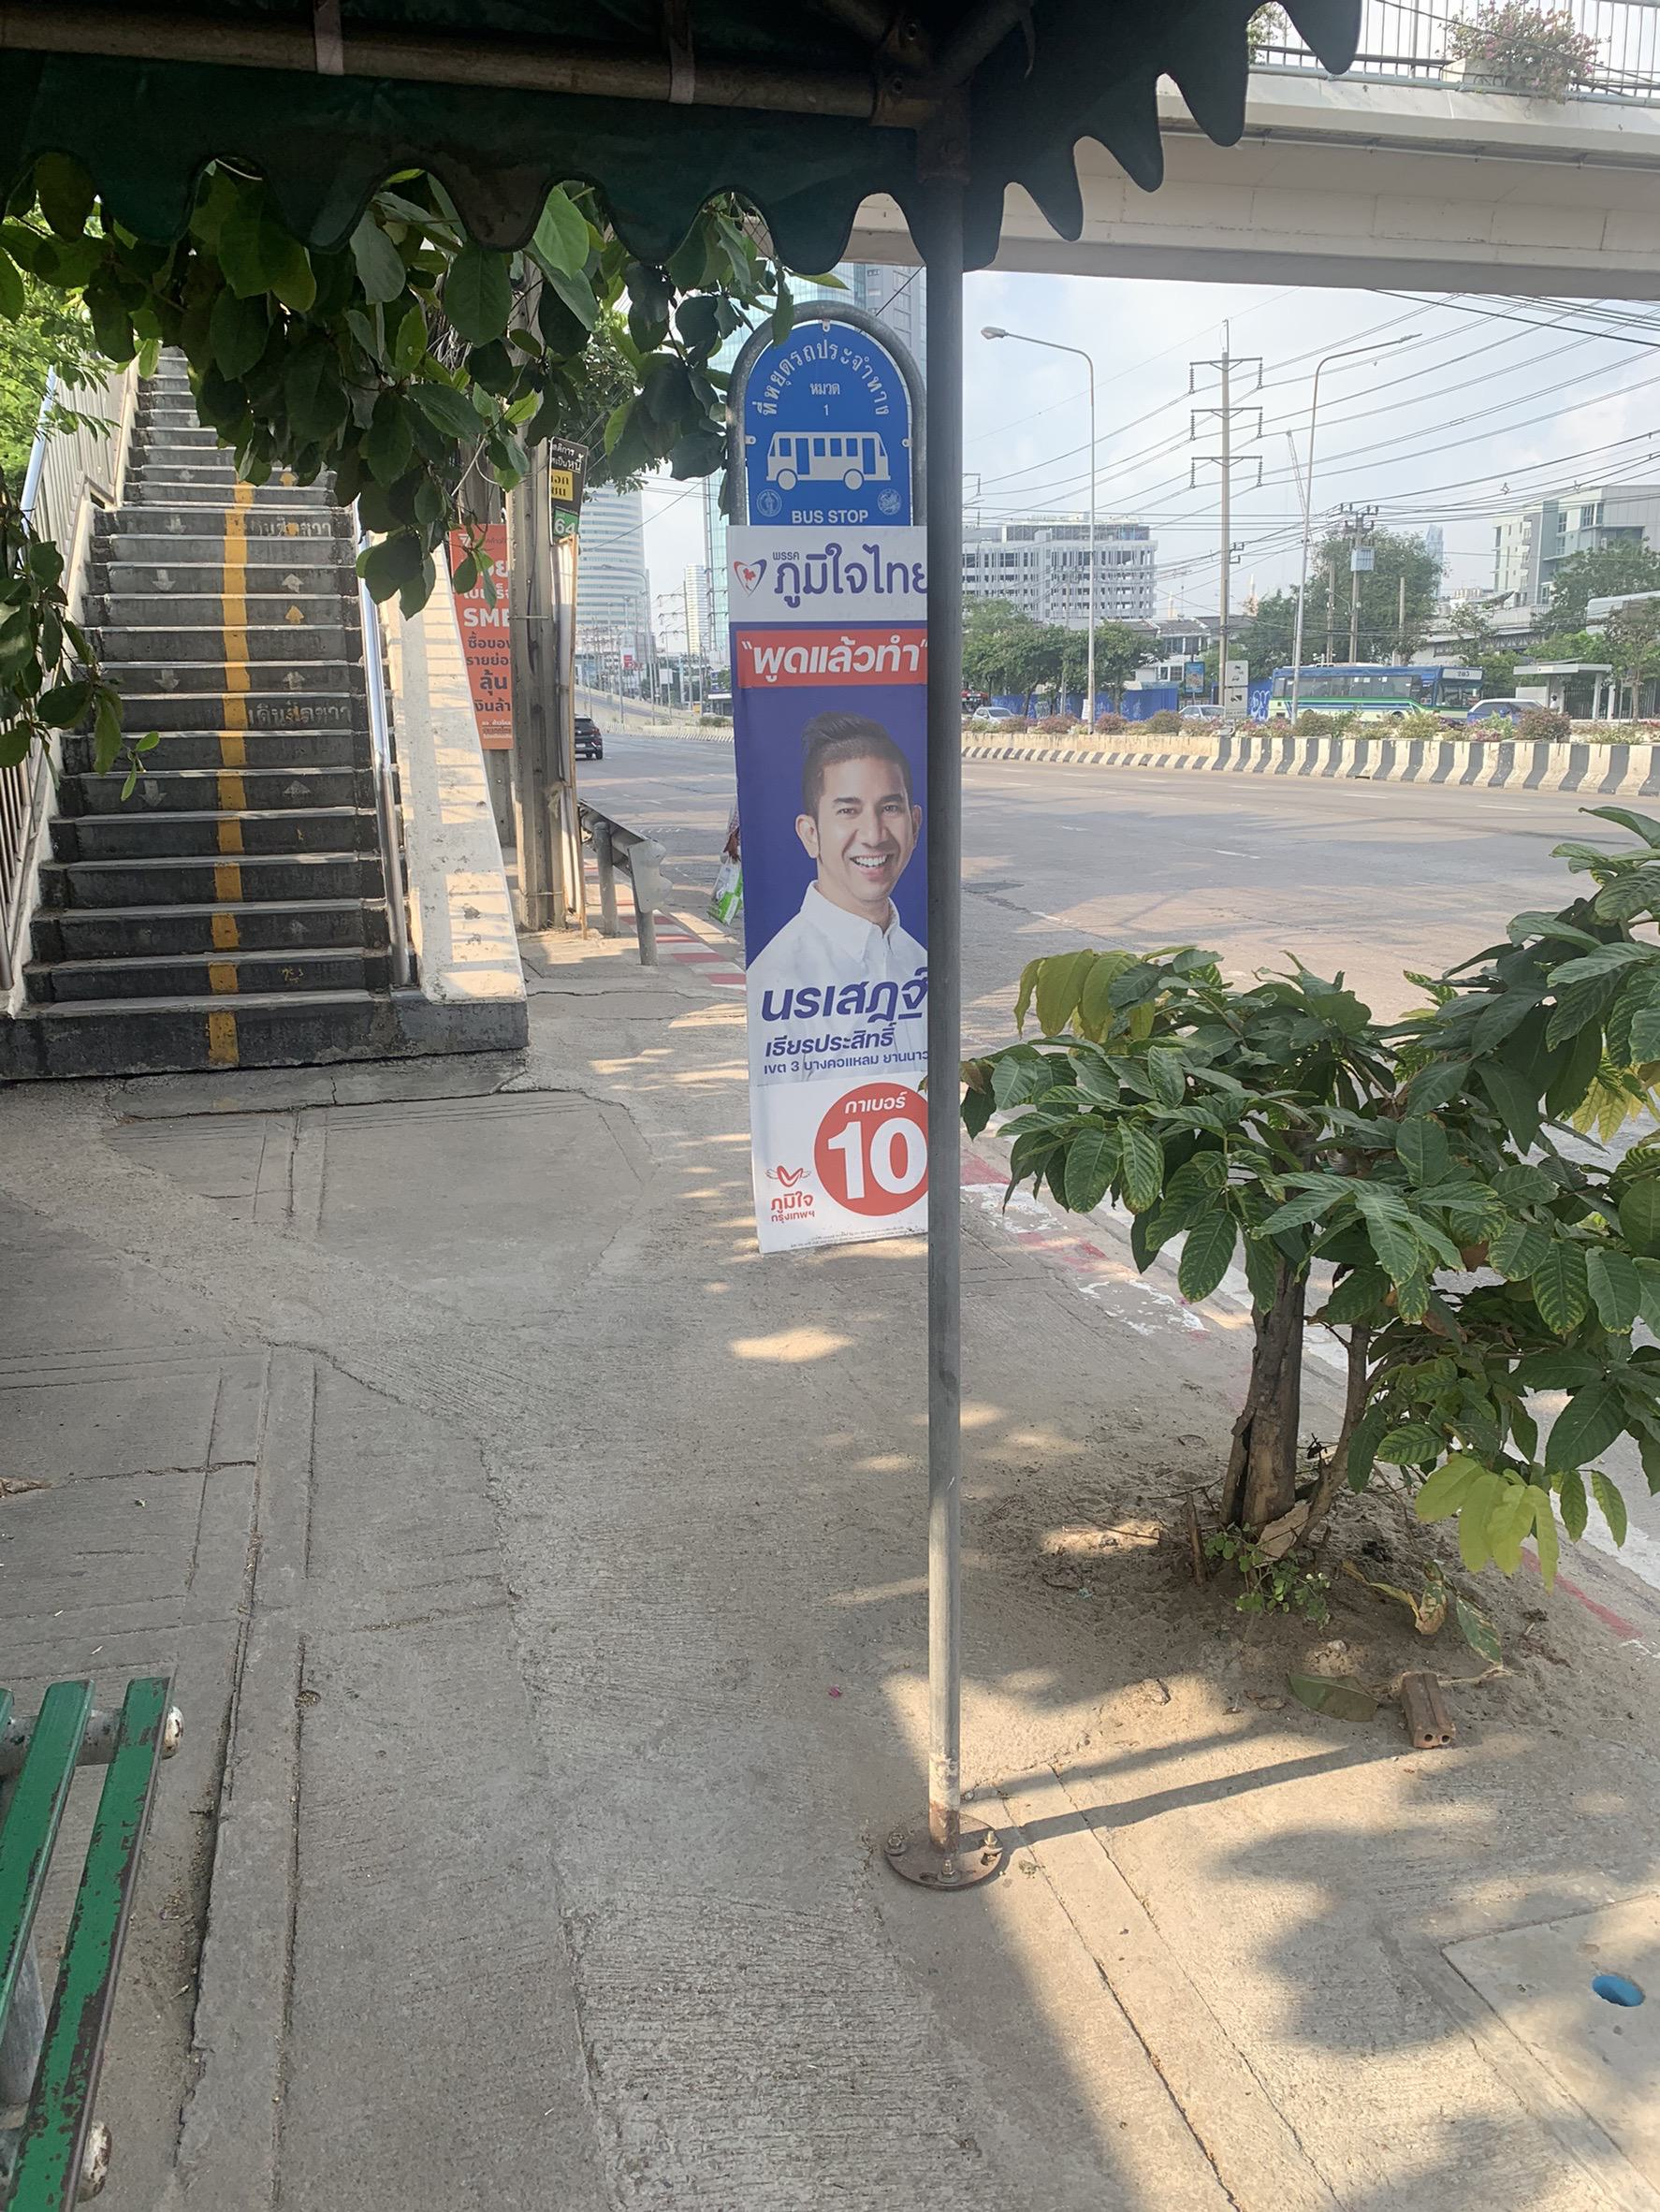Banner: (722, 532, 936, 1241)
